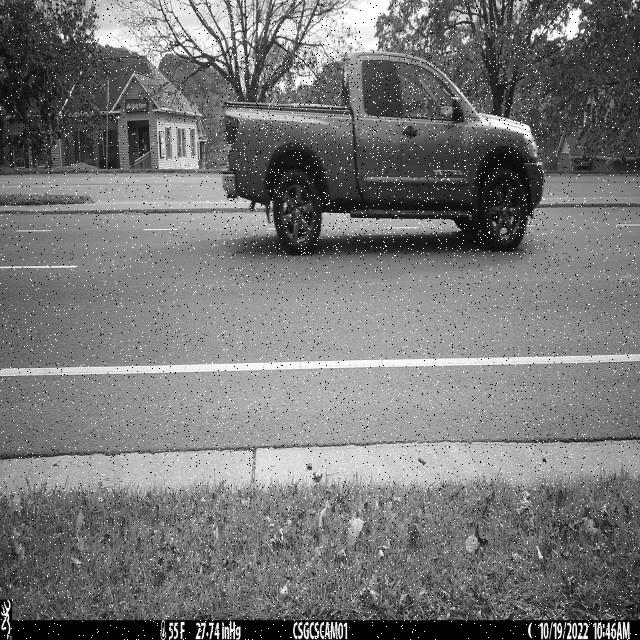Pickup: (222, 51, 545, 256)
